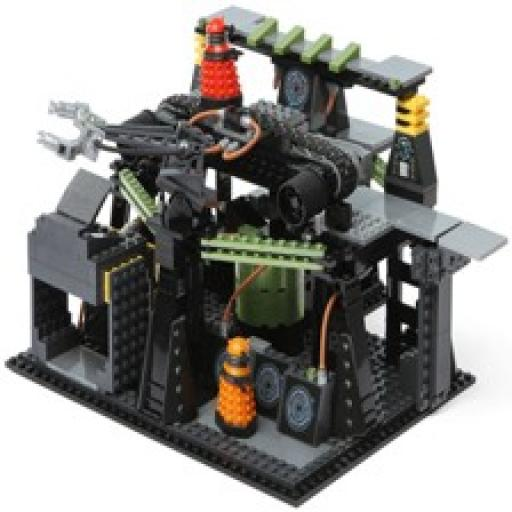dalek: (195, 15, 248, 119), (215, 333, 263, 441)
